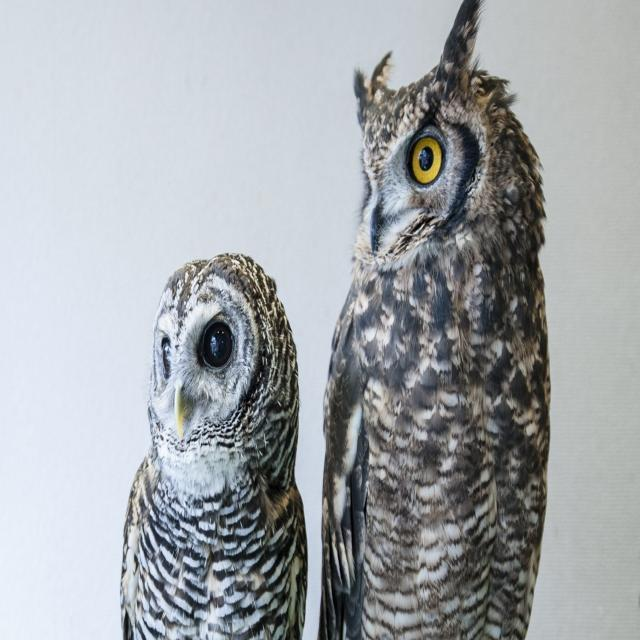bird: (316, 3, 555, 640), (116, 259, 313, 640)
